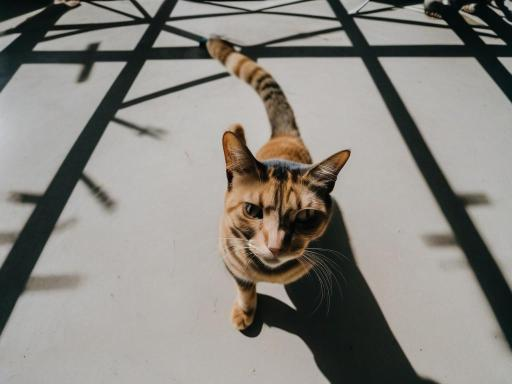cat_standing: (206, 38, 350, 329)
